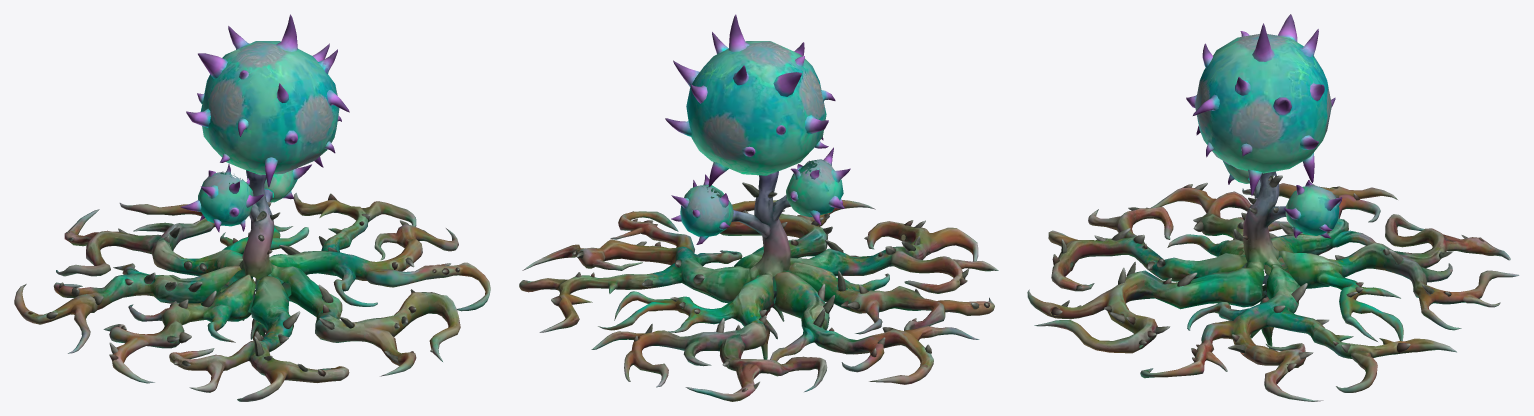
3 views of the same model, side by side, from view 1: azimuth 30°, elevation 25°; view 2: azimuth 150°, elevation 25°; view 3: azimuth 270°, elevation 25° (orthographic). The views are drawn at different scales.
Visible parts, largest first — view 1: SM_Corpse_Cotton_Plant_v3_LOD0; view 2: SM_Corpse_Cotton_Plant_v3_LOD0; view 3: SM_Corpse_Cotton_Plant_v3_LOD0.
Boxes of the visible parts, bbox=[...] form: SM_Corpse_Cotton_Plant_v3_LOD0: bbox=[14, 14, 490, 401]; SM_Corpse_Cotton_Plant_v3_LOD0: bbox=[519, 14, 998, 401]; SM_Corpse_Cotton_Plant_v3_LOD0: bbox=[1027, 14, 1519, 401].
Size of the model in its own units: 2.31 by 1.79 by 2.31.
1 material, 1 textured.
